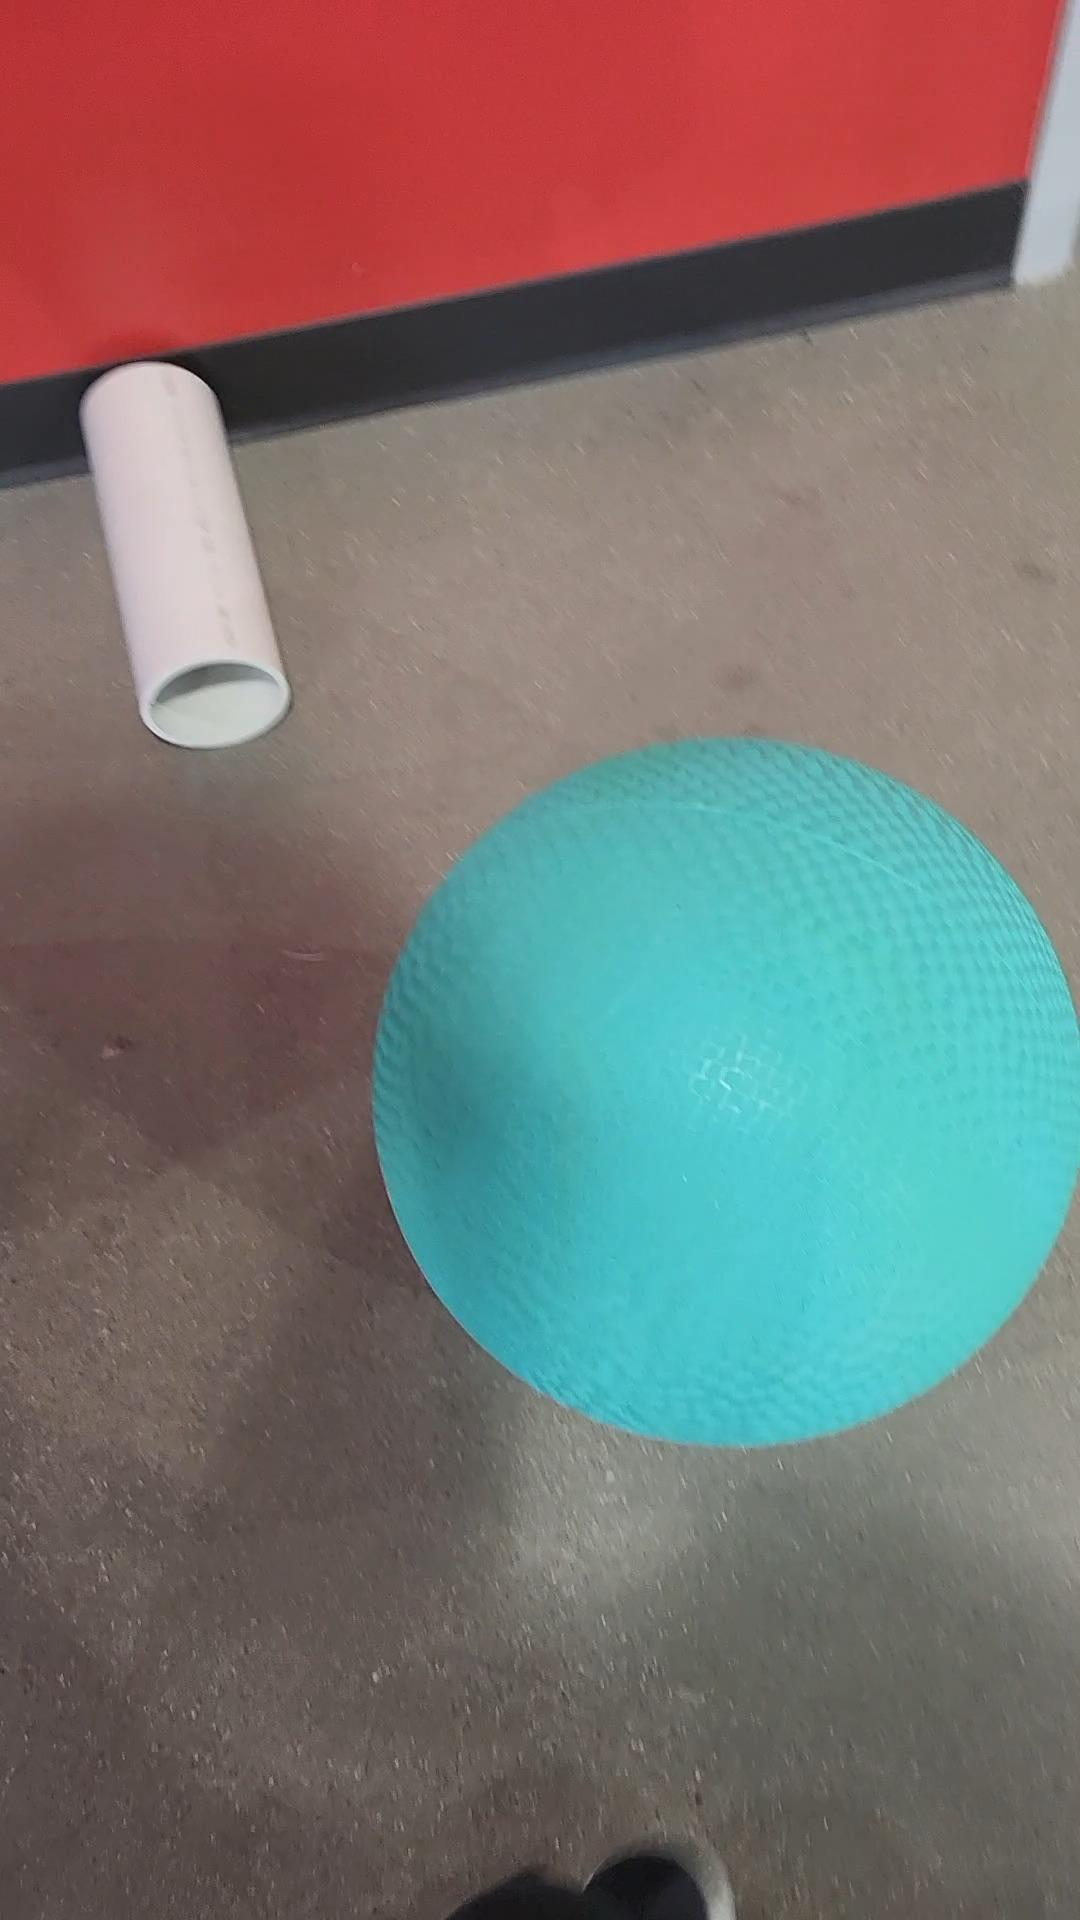algae: (376, 756, 1080, 1421)
coral: (51, 351, 307, 708)
